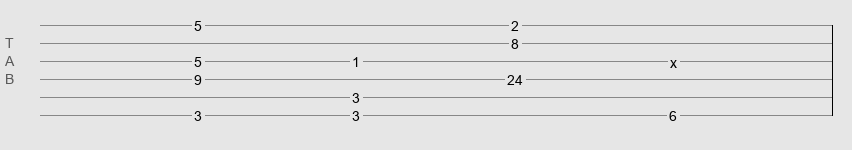1: (352, 54, 360, 64)
2: (511, 18, 519, 28)
24: (507, 72, 523, 82)
3: (194, 108, 202, 118), (352, 90, 360, 100), (352, 108, 360, 118)
5: (194, 18, 202, 28), (194, 54, 202, 64)
6: (669, 108, 677, 118)
8: (511, 36, 519, 46)
9: (194, 72, 202, 82)
x: (670, 55, 677, 63)
